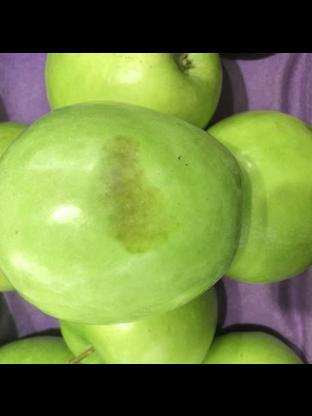defect: (76, 132, 176, 260)
